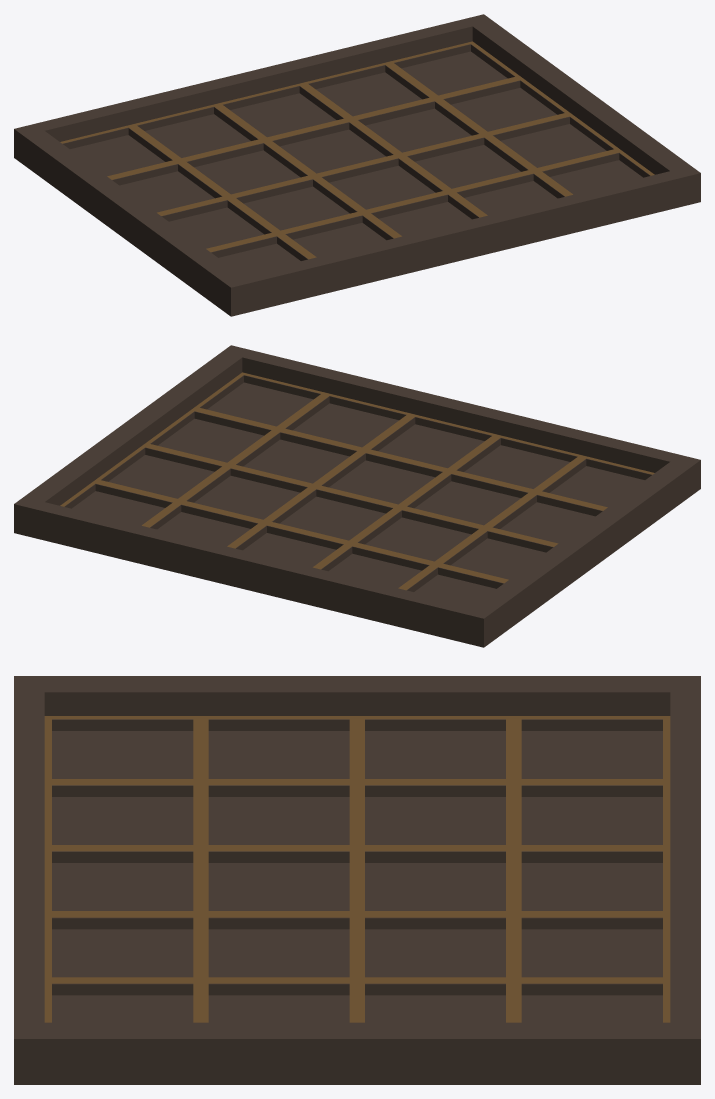
The model's file is Tray_Pentominos.glb.
The picture shows the model from 3 angles, top to bottom: view 1: azimuth 30°, elevation 25°; view 2: azimuth 150°, elevation 25°; view 3: azimuth 270°, elevation 25°; orthographic projection. The views are drawn at different scales.
Visible parts, largest first — view 1: Tray; view 2: Tray; view 3: Tray.
Part boxes in pixels (x1=…): Tray: x1=14, y1=14, x2=700, y2=316; Tray: x1=14, y1=345, x2=700, y2=647; Tray: x1=14, y1=676, x2=700, y2=1084.
Bounding box in the file's own units: 10 × 0.59 × 8.
1 material, 1 textured.
